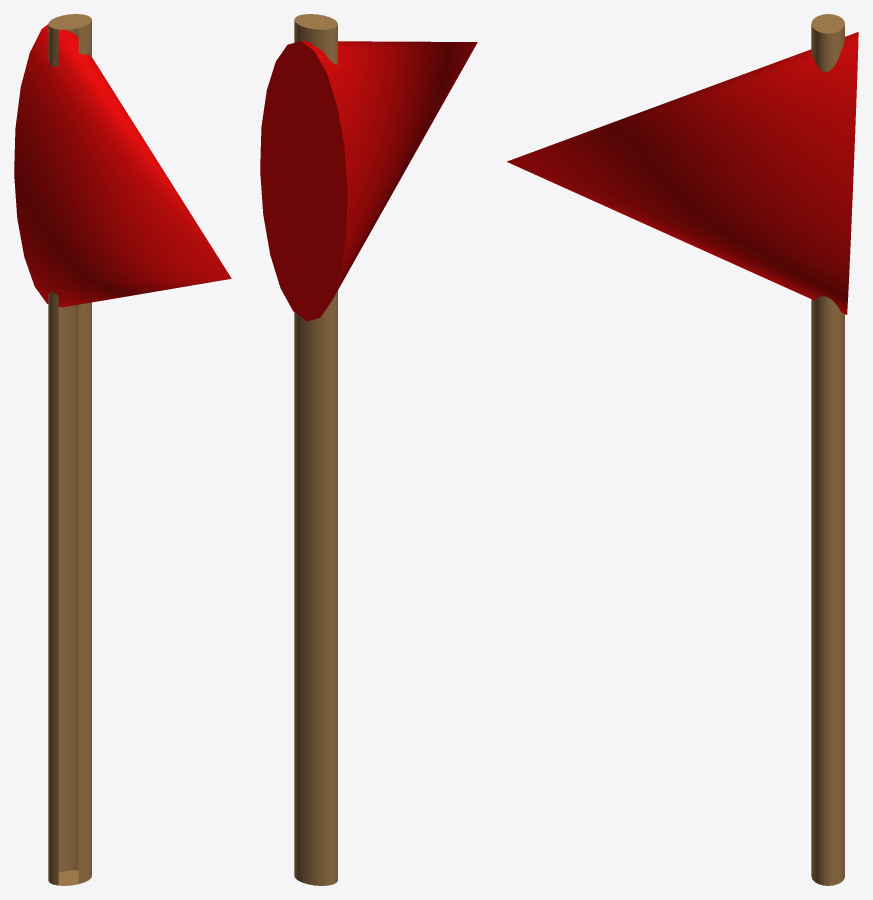
The model's file is Flag.fbx.
3 views of the same model, side by side, from view 1: azimuth 30°, elevation 25°; view 2: azimuth 150°, elevation 25°; view 3: azimuth 270°, elevation 25° (orthographic).
Visible parts, largest first — view 1: flaag_piller; view 2: flaag_piller; view 3: flaag_piller.
Boxes of the visible parts, <box> form: flaag_piller: <box>14,14,231,885</box>; flaag_piller: <box>260,14,477,885</box>; flaag_piller: <box>507,14,858,885</box>.
Bounding box in the file's own units: 2 × 18.71 × 7.01.
